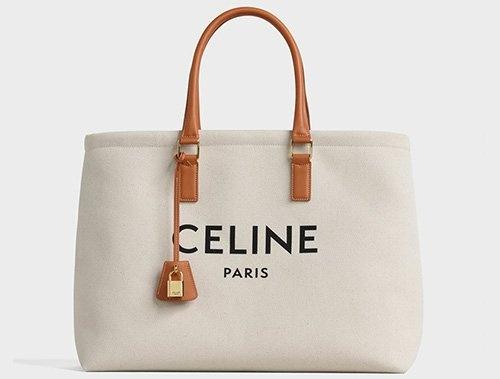CELINE: (171, 224, 319, 254)
